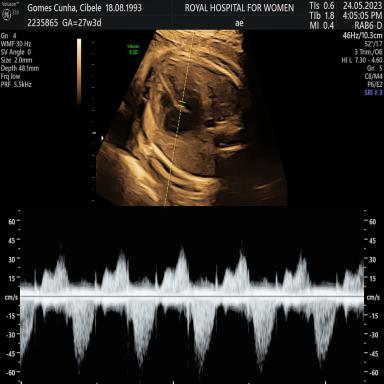Ultrasound-Waves: (25, 215, 363, 384)
